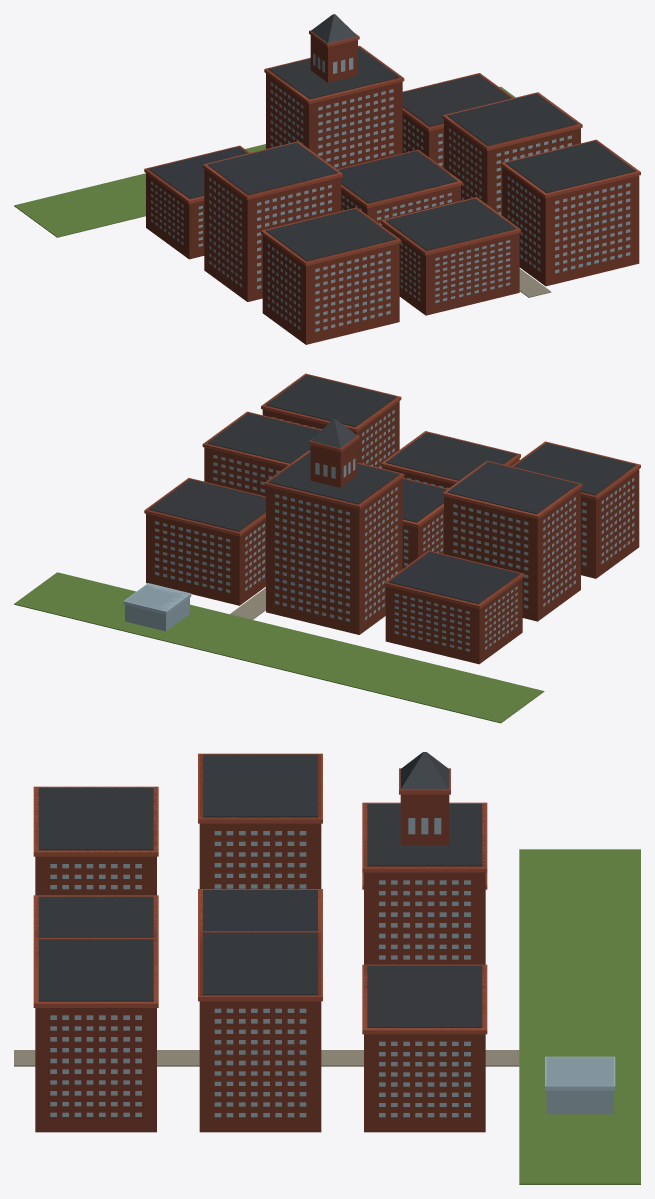
3 views of the same model, one above another, from view 1: azimuth 30°, elevation 25°; view 2: azimuth 150°, elevation 25°; view 3: azimuth 270°, elevation 25° (orthographic). The views are drawn at different scales.
Visible parts, largest first — view 1: dumbo-lod0; view 2: dumbo-lod0; view 3: dumbo-lod0.
Part boxes in pixels (x1,y1,x2,y2): dumbo-lod0: [14, 14, 640, 344]; dumbo-lod0: [14, 373, 640, 723]; dumbo-lod0: [14, 752, 640, 1184].
Bounding box in the file's own units: 260 × 95.99 × 206.
